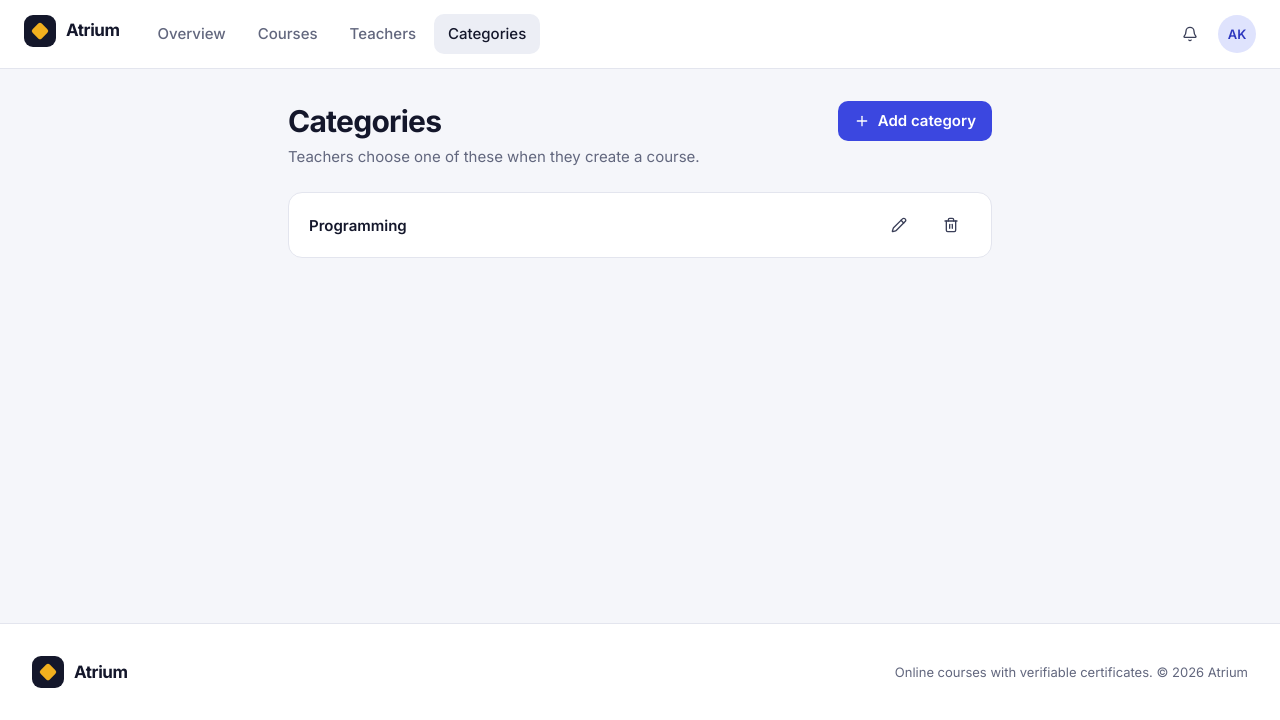
Test: categories › shows the API message when a category is still in use
Click the button named "Delete Programming" at (951, 225), box [931,205,971,245]
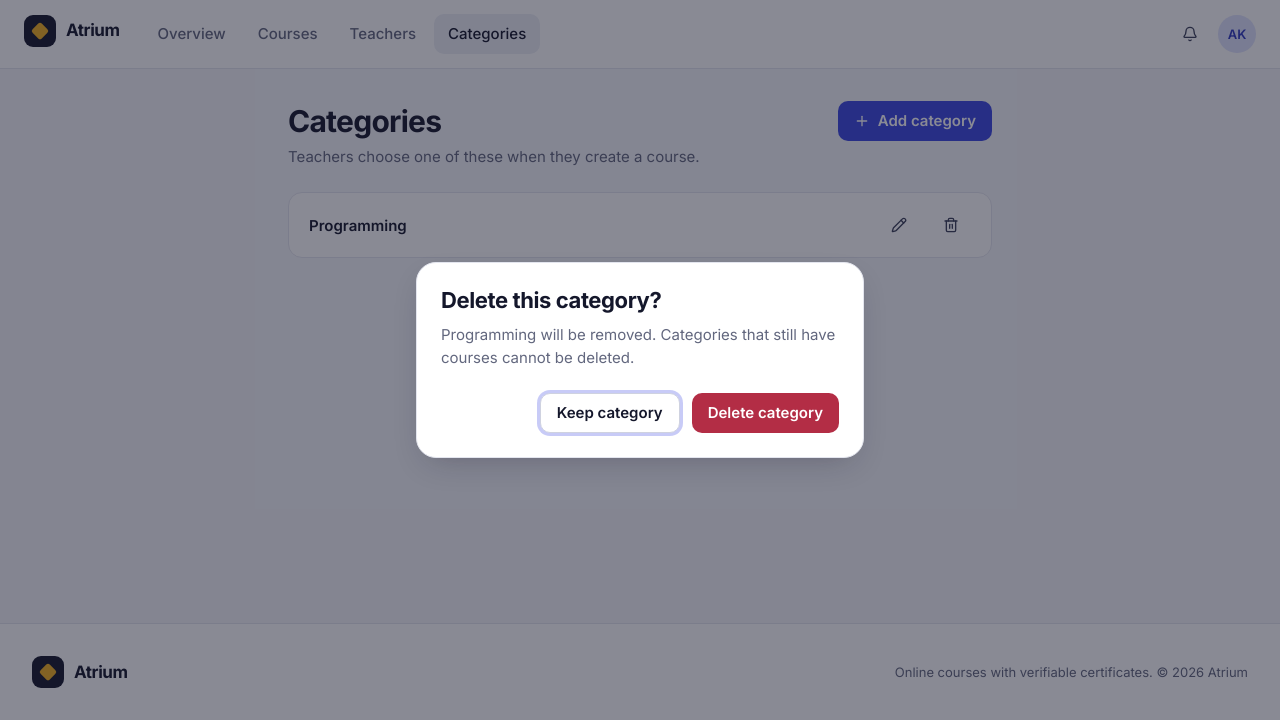
Click the button "Delete category" at (765, 413), box [692,393,839,433]
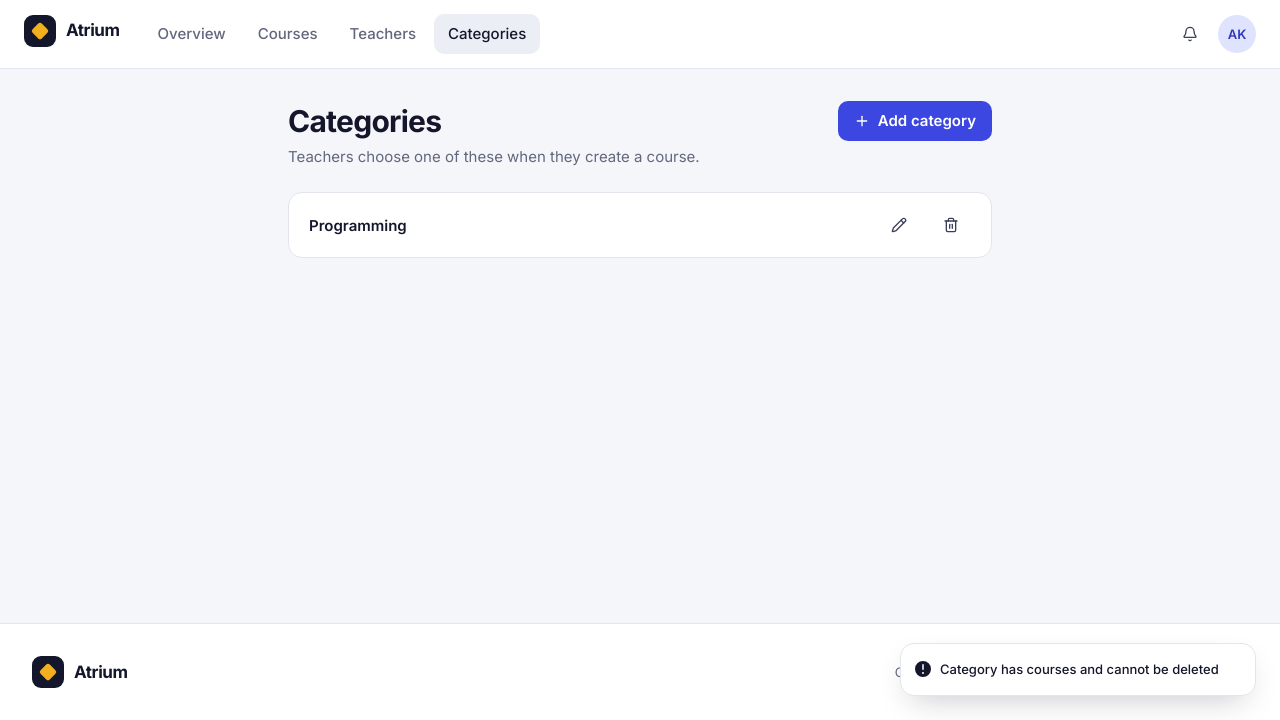
Expected: the text "Programming" is shown, [309,216,407,235]
Expected: the text "Category has courses and cannot be deleted" is shown, [940,660,1219,679]
